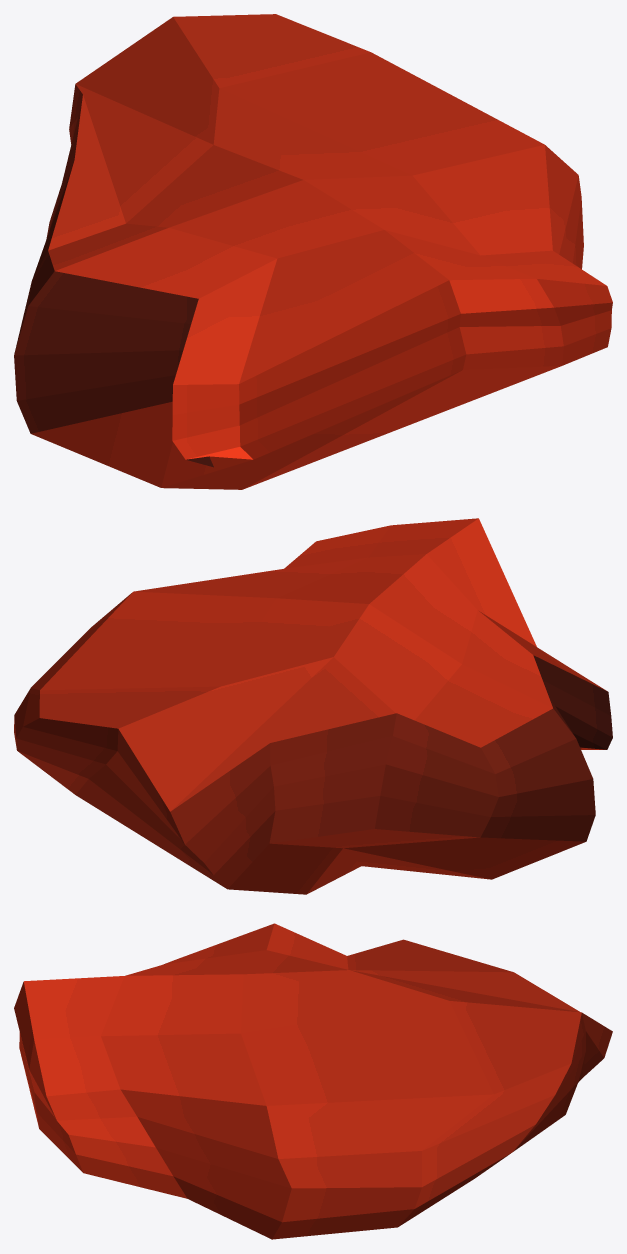
The model's file is gib1.glb.
3 renders of one model, top to bottom at view 1: azimuth 30°, elevation 25°; view 2: azimuth 150°, elevation 25°; view 3: azimuth 270°, elevation 25°, orthographic. The views are drawn at different scales.
Parts seen in each view (by area): view 1: Cube; view 2: Cube; view 3: Cube.
Boxes of the visible parts, x1,y1,x2,y2 form: Cube: (14,14,612,489); Cube: (14,518,612,894); Cube: (14,923,612,1239).
Size of the model in its own units: 15.27 by 6.95 by 16.82.
1 material, 1 textured.
